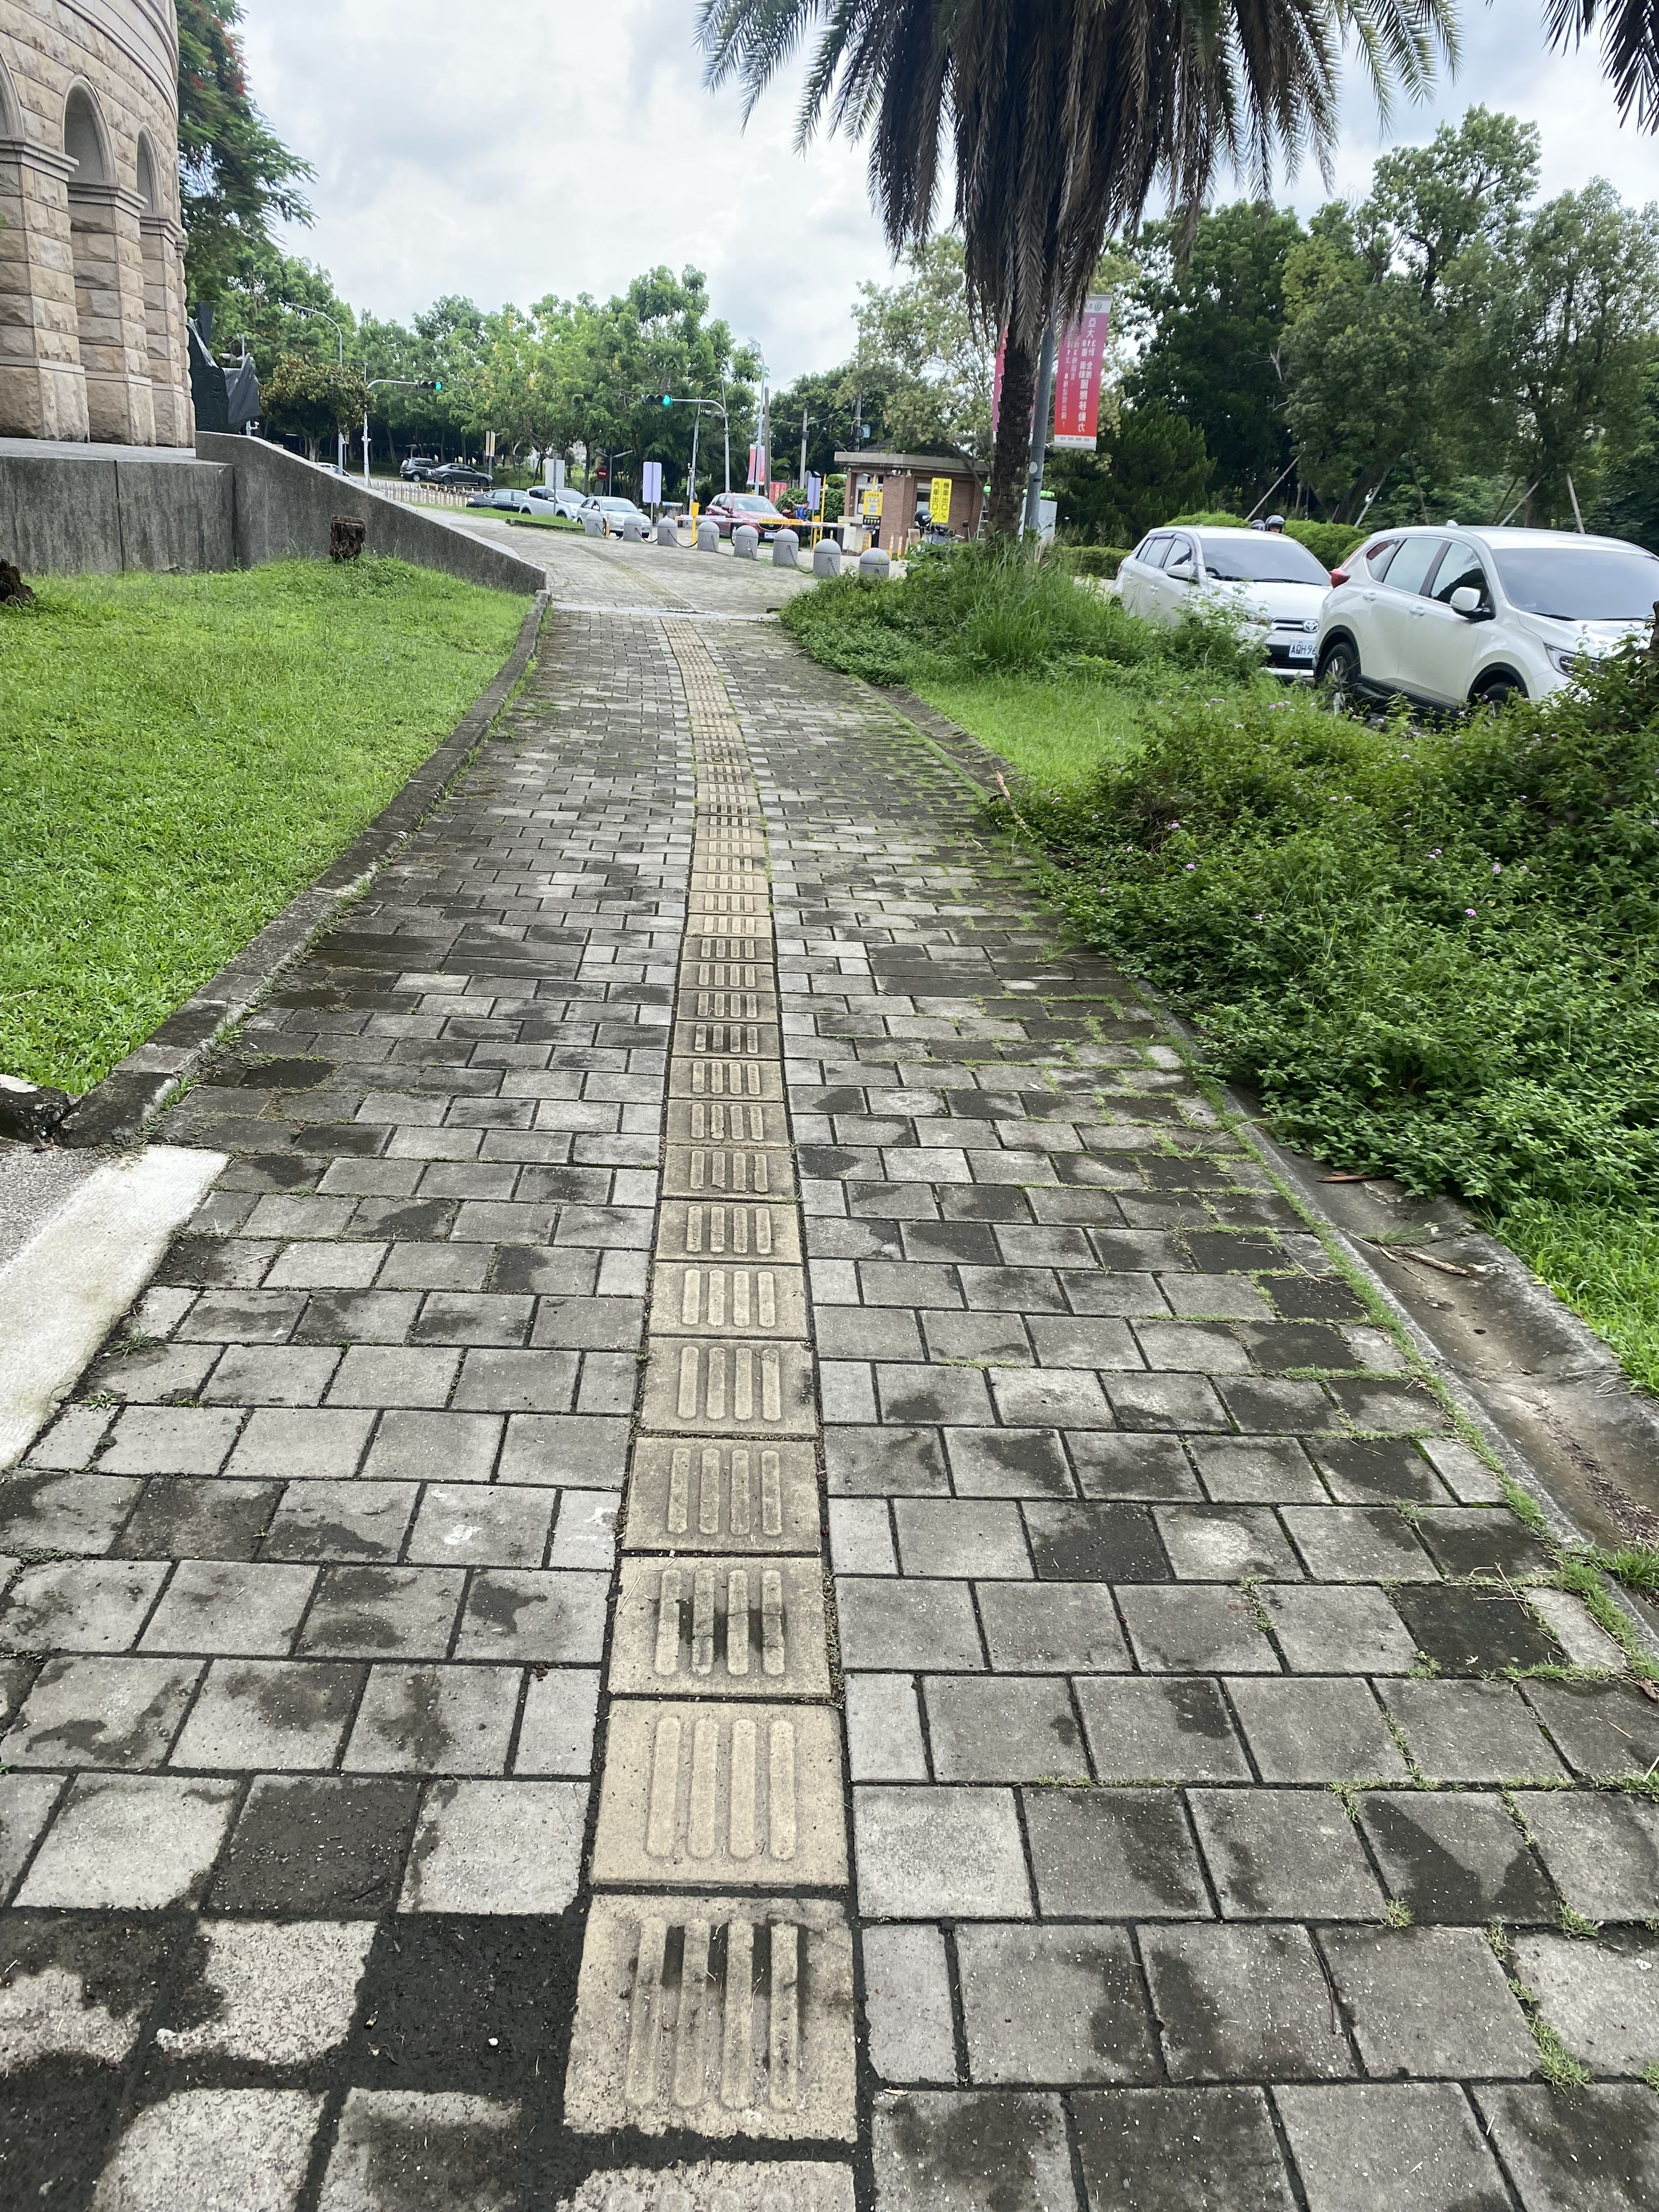0: (3, 763, 1659, 2212)
sidewalk: (429, 493, 1021, 1240)
